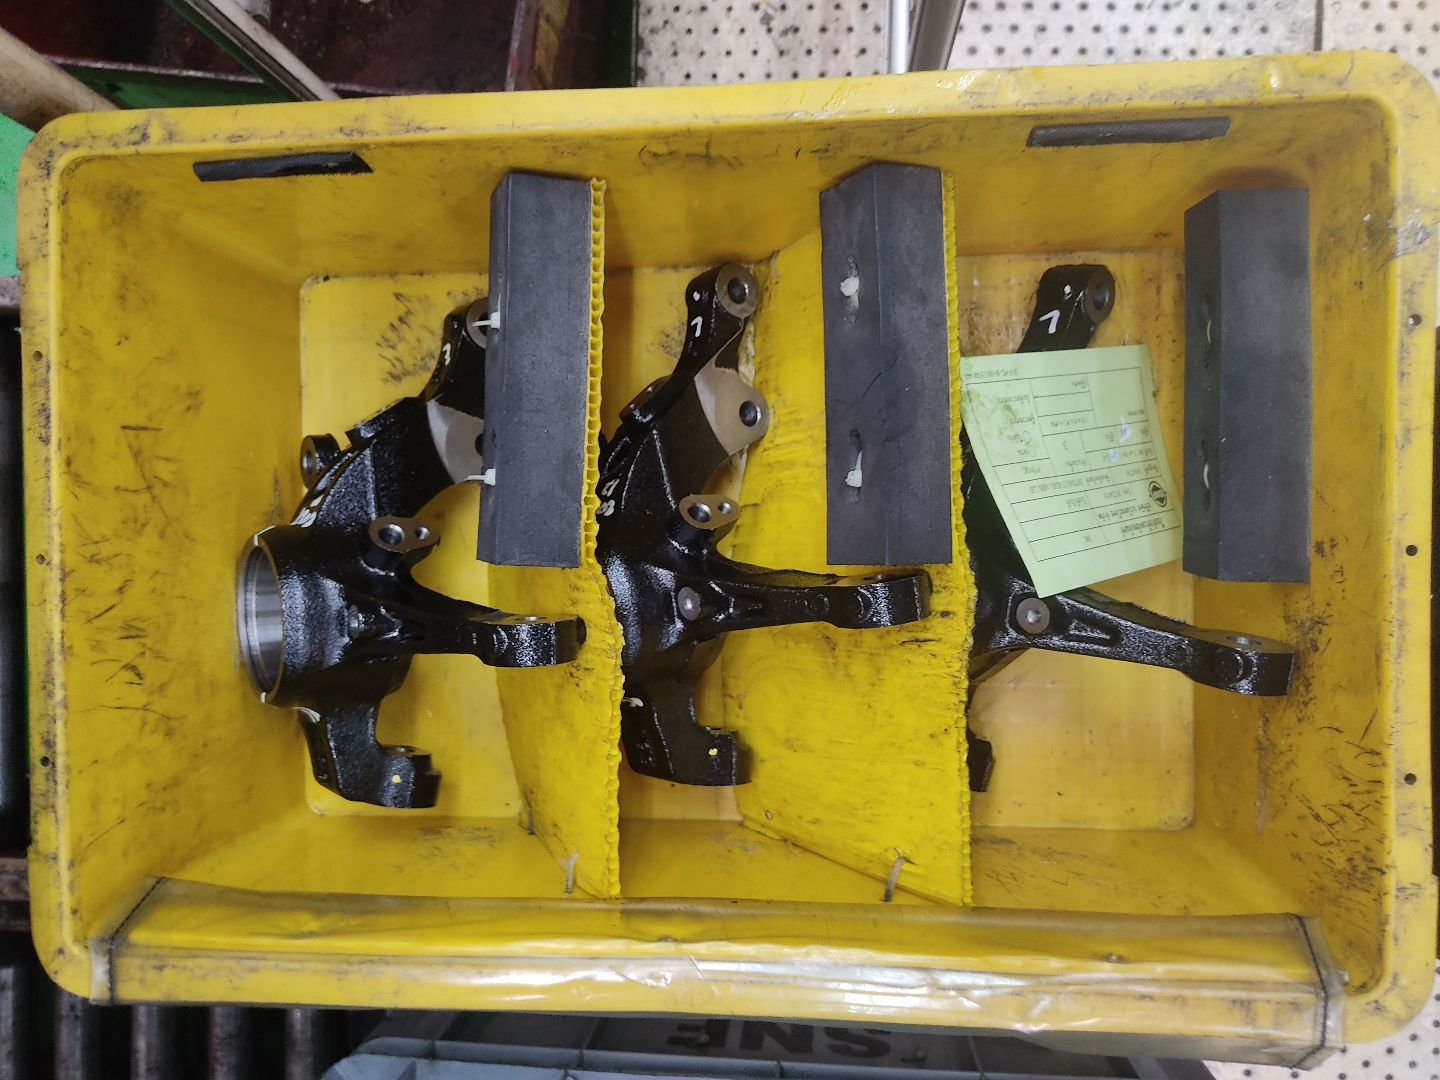abs-lh: (945, 258, 1312, 798), (221, 285, 586, 816), (586, 258, 940, 795)
